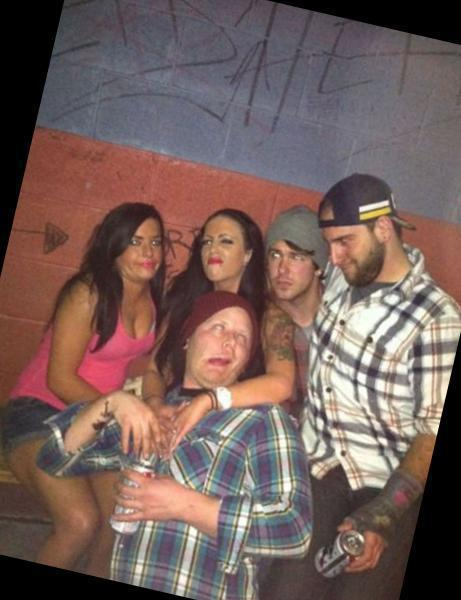Drunk: (193, 304, 252, 383), (320, 217, 373, 283), (268, 239, 316, 302), (123, 219, 164, 282), (202, 219, 241, 282)
